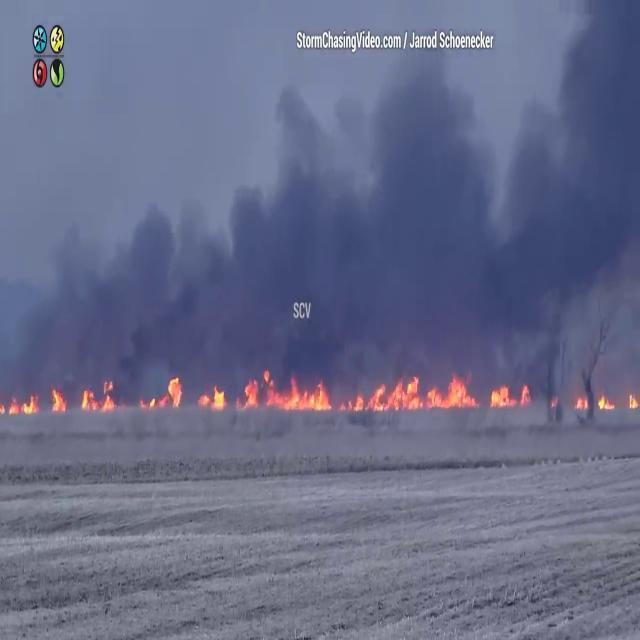Fire: (0, 373, 640, 425)
Smoke: (8, 65, 638, 416)
